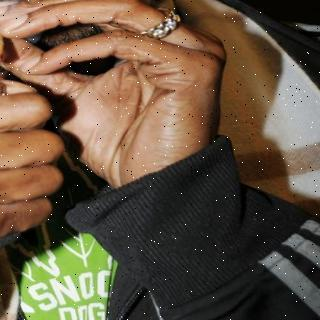smoke: (0, 0, 68, 14)
